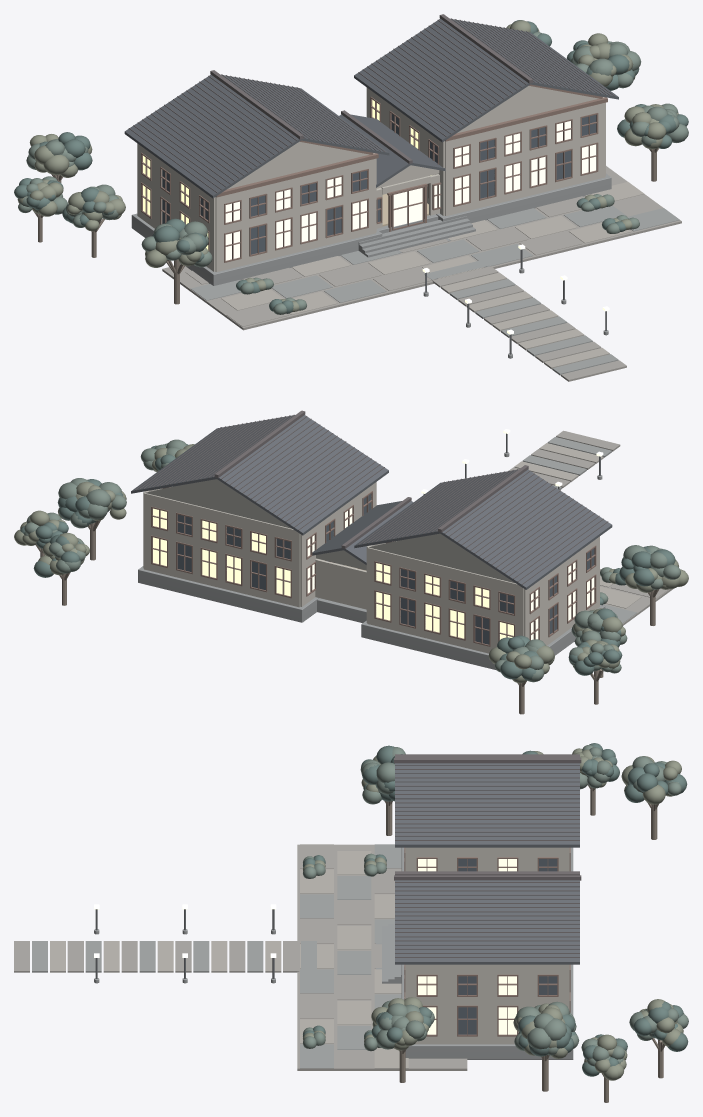
The model's file is campus.glb.
3 renders of one model, top to bottom at view 1: azimuth 30°, elevation 25°; view 2: azimuth 150°, elevation 25°; view 3: azimuth 270°, elevation 25°, orthographic. The views are drawn at different scales.
Parts seen in each view (by area): view 1: 西翼｜山墙屋面-1, 东翼｜山墙屋面-1, 建筑前广场｜铺装底面, 东翼｜山墙屋面1, 西翼｜山墙屋面1, 西翼｜台基, 东翼｜正面山墙, 西翼｜正面山墙, 东翼｜台基, 西翼｜正面｜墙带1, 西翼｜正面｜墙带2, 西翼｜正面｜墙带0 (+43 smaller); view 2: 西翼｜山墙屋面-1, 东翼｜山墙屋面-1, 东翼｜山墙屋面1, 西翼｜山墙屋面1, 东翼｜台基, 东翼｜背面山墙, 西翼｜背面山墙, 西翼｜台基, 中央门厅｜后墙, 东翼｜背面｜墙带2, 西翼｜背面｜墙带2, 西翼｜背面｜墙带1 (+33 smaller); view 3: 西翼｜山墙屋面1, 东翼｜山墙屋面1, 建筑前广场｜铺装底面, 东翼｜台基, 东翼｜右侧｜墙墩2, 东翼｜右侧｜墙墩1, 西翼｜右侧｜墙带2, 东翼｜屋脊收边, 西翼｜屋脊收边, 东翼｜右侧｜墙墩3, 东翼｜右侧｜墙带2, 前广场石板｜1-3 (+17 smaller).
Boxes of the visible parts, x1,y1,x2,y2 form: 西翼｜山墙屋面-1: (124,75,301,198); 东翼｜山墙屋面-1: (354,18,530,142); 建筑前广场｜铺装底面: (162,166,681,330); 东翼｜山墙屋面1: (450,18,618,99); 西翼｜山墙屋面1: (221,74,389,155); 西翼｜台基: (131,213,382,285); 东翼｜正面山墙: (457,86,598,133); 西翼｜正面山墙: (227,141,368,189); 东翼｜台基: (436,173,611,223); 西翼｜正面｜墙带1: (215,187,375,232); 西翼｜正面｜墙带2: (215,158,375,203); 西翼｜正面｜墙带0: (216,224,375,271); 西翼｜山墙屋面-1: (440,469,612,589); 东翼｜山墙屋面-1: (217,415,388,535); 东翼｜山墙屋面1: (131,415,294,493); 西翼｜山墙屋面1: (354,469,518,548); 东翼｜台基: (138,566,318,622); 东翼｜背面山墙: (145,479,291,528); 西翼｜背面山墙: (369,533,515,583); 西翼｜台基: (361,605,605,670); 中央门厅｜后墙: (315,559,366,609); 东翼｜背面｜墙带2: (144,493,300,542); 西翼｜背面｜墙带2: (368,546,523,597); 西翼｜背面｜墙带1: (367,579,523,626); 西翼｜山墙屋面1: (395,763,579,847); 东翼｜山墙屋面1: (395,880,579,964); 建筑前广场｜铺装底面: (297,844,467,1070); 东翼｜台基: (401,964,573,1059); 东翼｜右侧｜墙墩2: (476,964,498,1044); 东翼｜右侧｜墙墩1: (436,964,458,1044); 西翼｜右侧｜墙带2: (407,847,567,858); 东翼｜屋脊收边: (394,875,581,880); 西翼｜屋脊收边: (394,758,581,763); 东翼｜右侧｜墙墩3: (517,964,538,1033); 东翼｜右侧｜墙带2: (410,964,567,974); 前广场石板｜1-3: (300,894,333,918).
Size of what is drawn, in the model's own units: 54.43 by 11.66 by 49.66.
